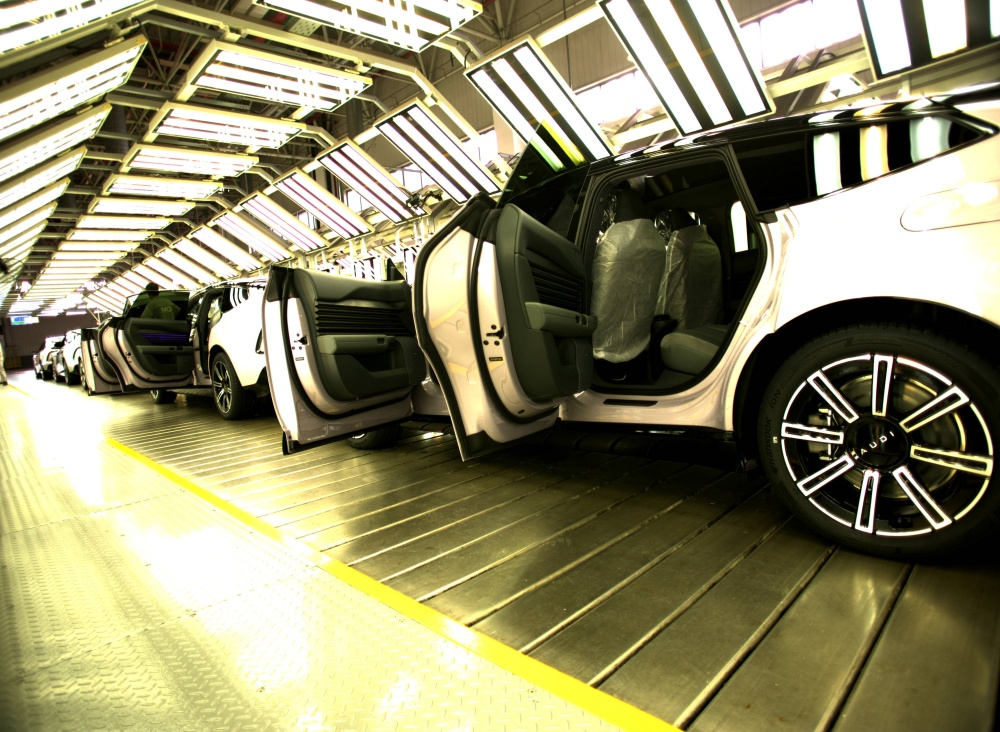armrest_color: (523, 300, 599, 335), (317, 333, 400, 355)
panel_color: (525, 258, 589, 314), (310, 296, 400, 328)
